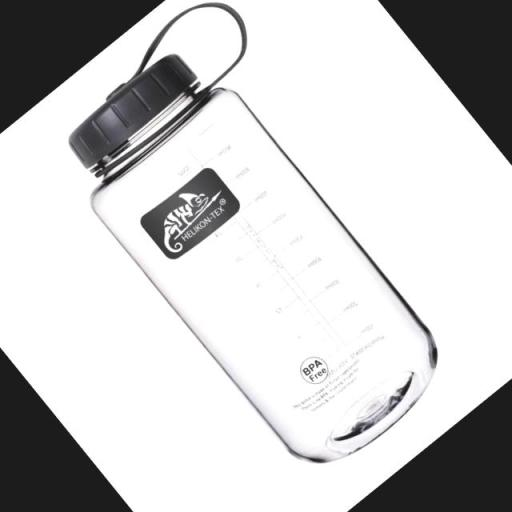bottle: (30, 0, 506, 490)
